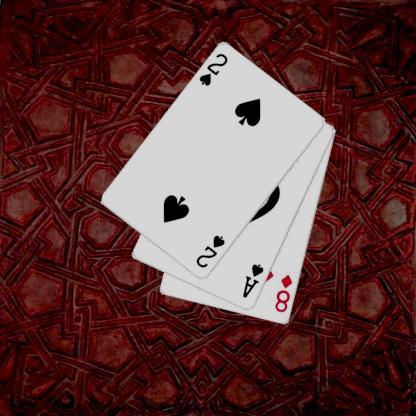2S: (193, 232, 226, 270), (196, 51, 229, 88)
8D: (272, 272, 294, 314)
AS: (240, 262, 265, 300)
